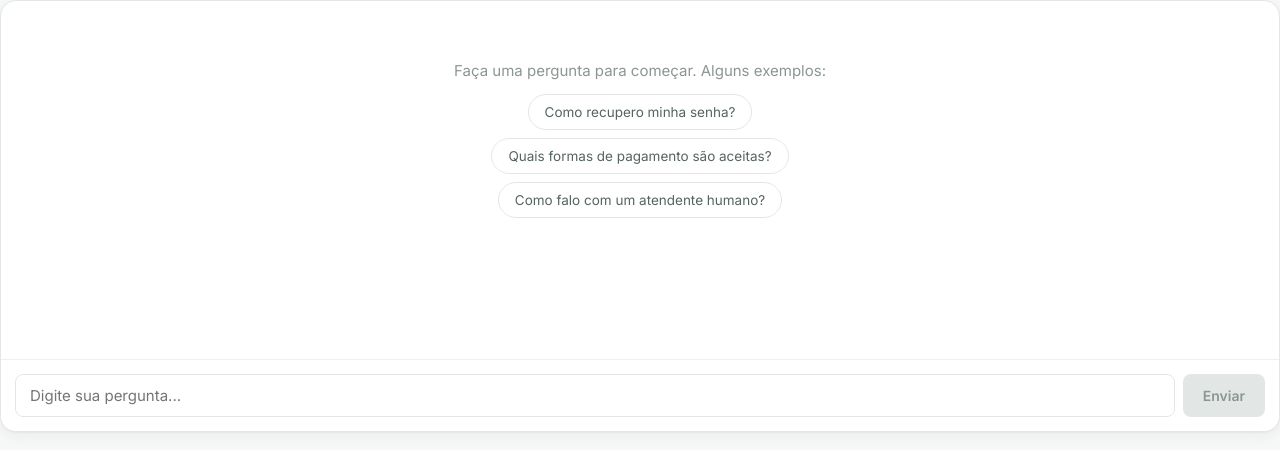
Test case: ChatWindow › exibe a resposta do bot após sucesso da mutation
The width and height of the screenshot is (1280, 450).
Type "Qual o horário de funcionamento?" into the field with placeholder "Digite sua pergunta..." at (595, 396), box [15, 374, 1175, 417]
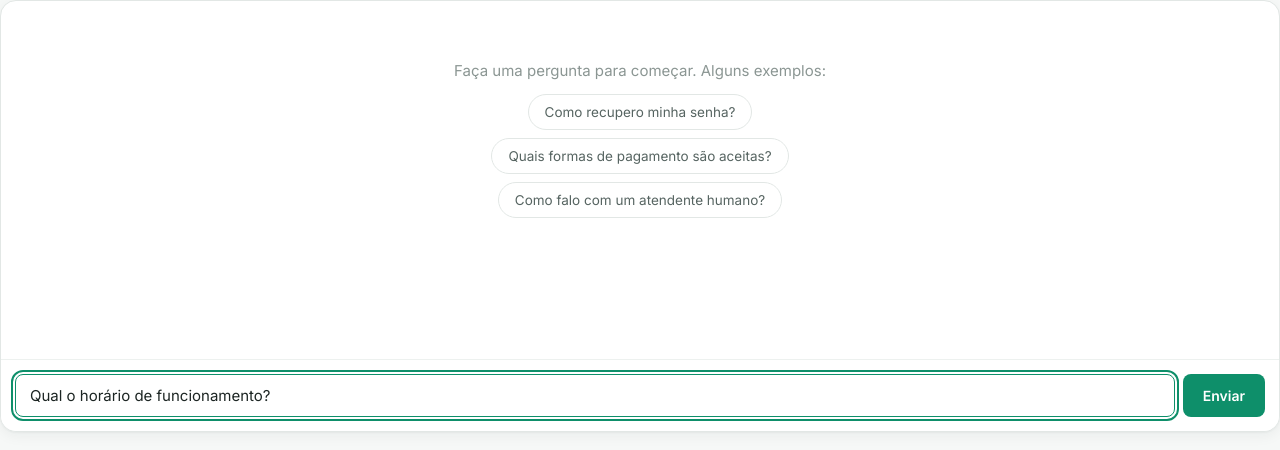
Click the button "Enviar" at (1224, 396), box [1183, 374, 1265, 417]
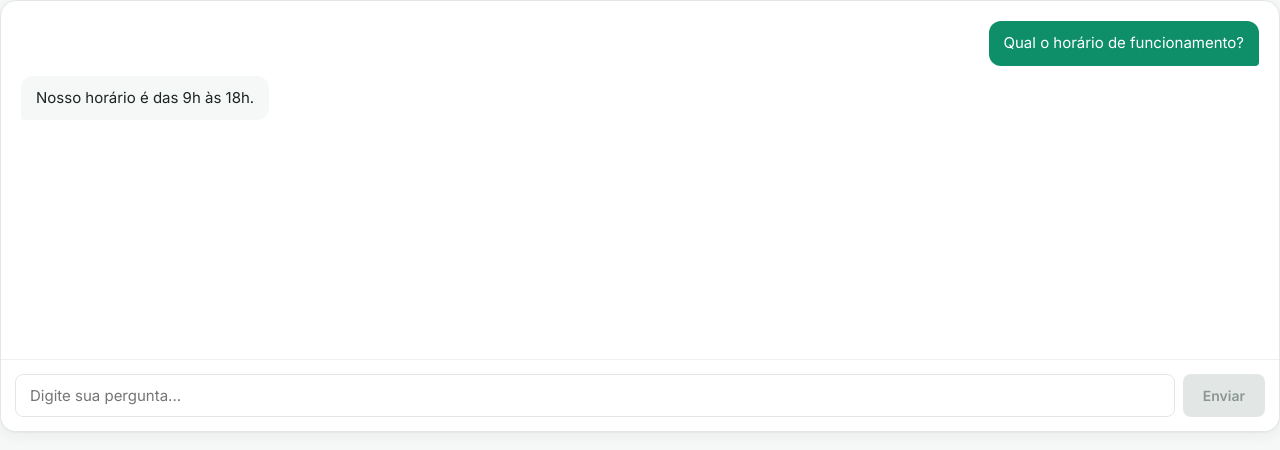
Expected: the text "Nosso horário é das 9h às 18h." is shown, [36, 86, 254, 109]
